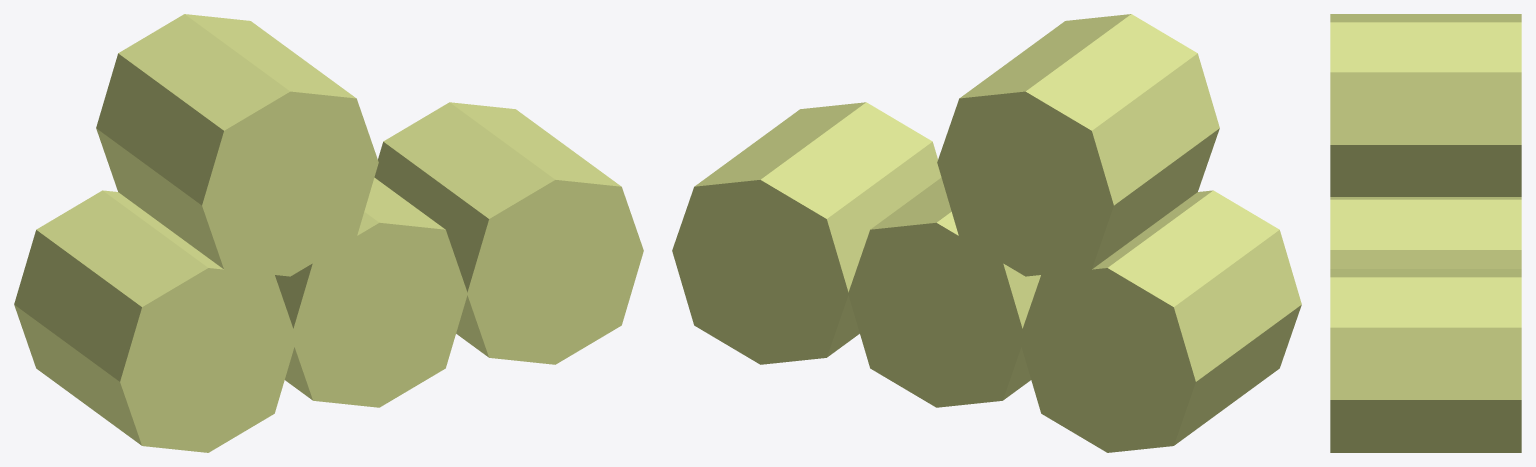
Rendered from stack.fbx.
3 views of the same model, side by side, from view 1: azimuth 30°, elevation 25°; view 2: azimuth 150°, elevation 25°; view 3: azimuth 270°, elevation 25° (orthographic). The views are drawn at different scales.
Visible parts, largest first — view 1: Plane.001; view 2: Plane.001; view 3: Plane.001.
Boxes of the visible parts, x1=… form: Plane.001: x1=14, y1=14, x2=643, y2=452; Plane.001: x1=672, y1=14, x2=1301, y2=452; Plane.001: x1=1330, y1=14, x2=1521, y2=452.
Size of the model in its own units: 3.26 by 2.03 by 1.14.
